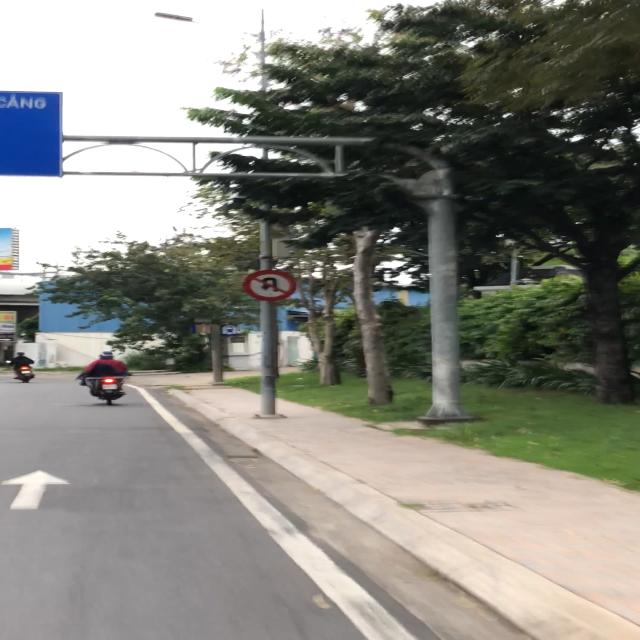Bien bao cam quay dau xe: (239, 267, 302, 301)
